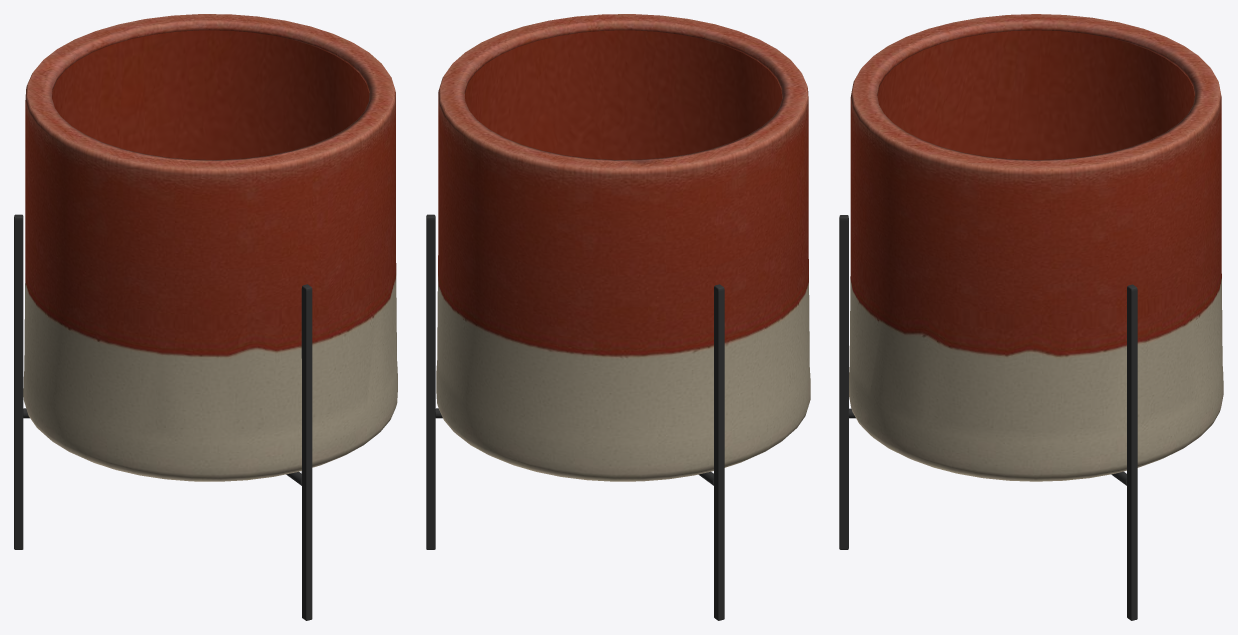
File: abo-b07cbnz6r9.ecbbbb2226.ar.glb
3 views of the same model, side by side, from view 1: azimuth 30°, elevation 25°; view 2: azimuth 150°, elevation 25°; view 3: azimuth 270°, elevation 25° (orthographic).
Visible parts, largest first — view 1: RootNode; view 2: RootNode; view 3: RootNode.
Part boxes in pixels (x1,y1,x2,y2): RootNode: [14, 14, 397, 620]; RootNode: [426, 14, 810, 620]; RootNode: [839, 14, 1223, 620].
Size of the model in its own units: 0.3452 by 0.4648 by 0.3538.
Materials: 1 (1 with a texture image).
